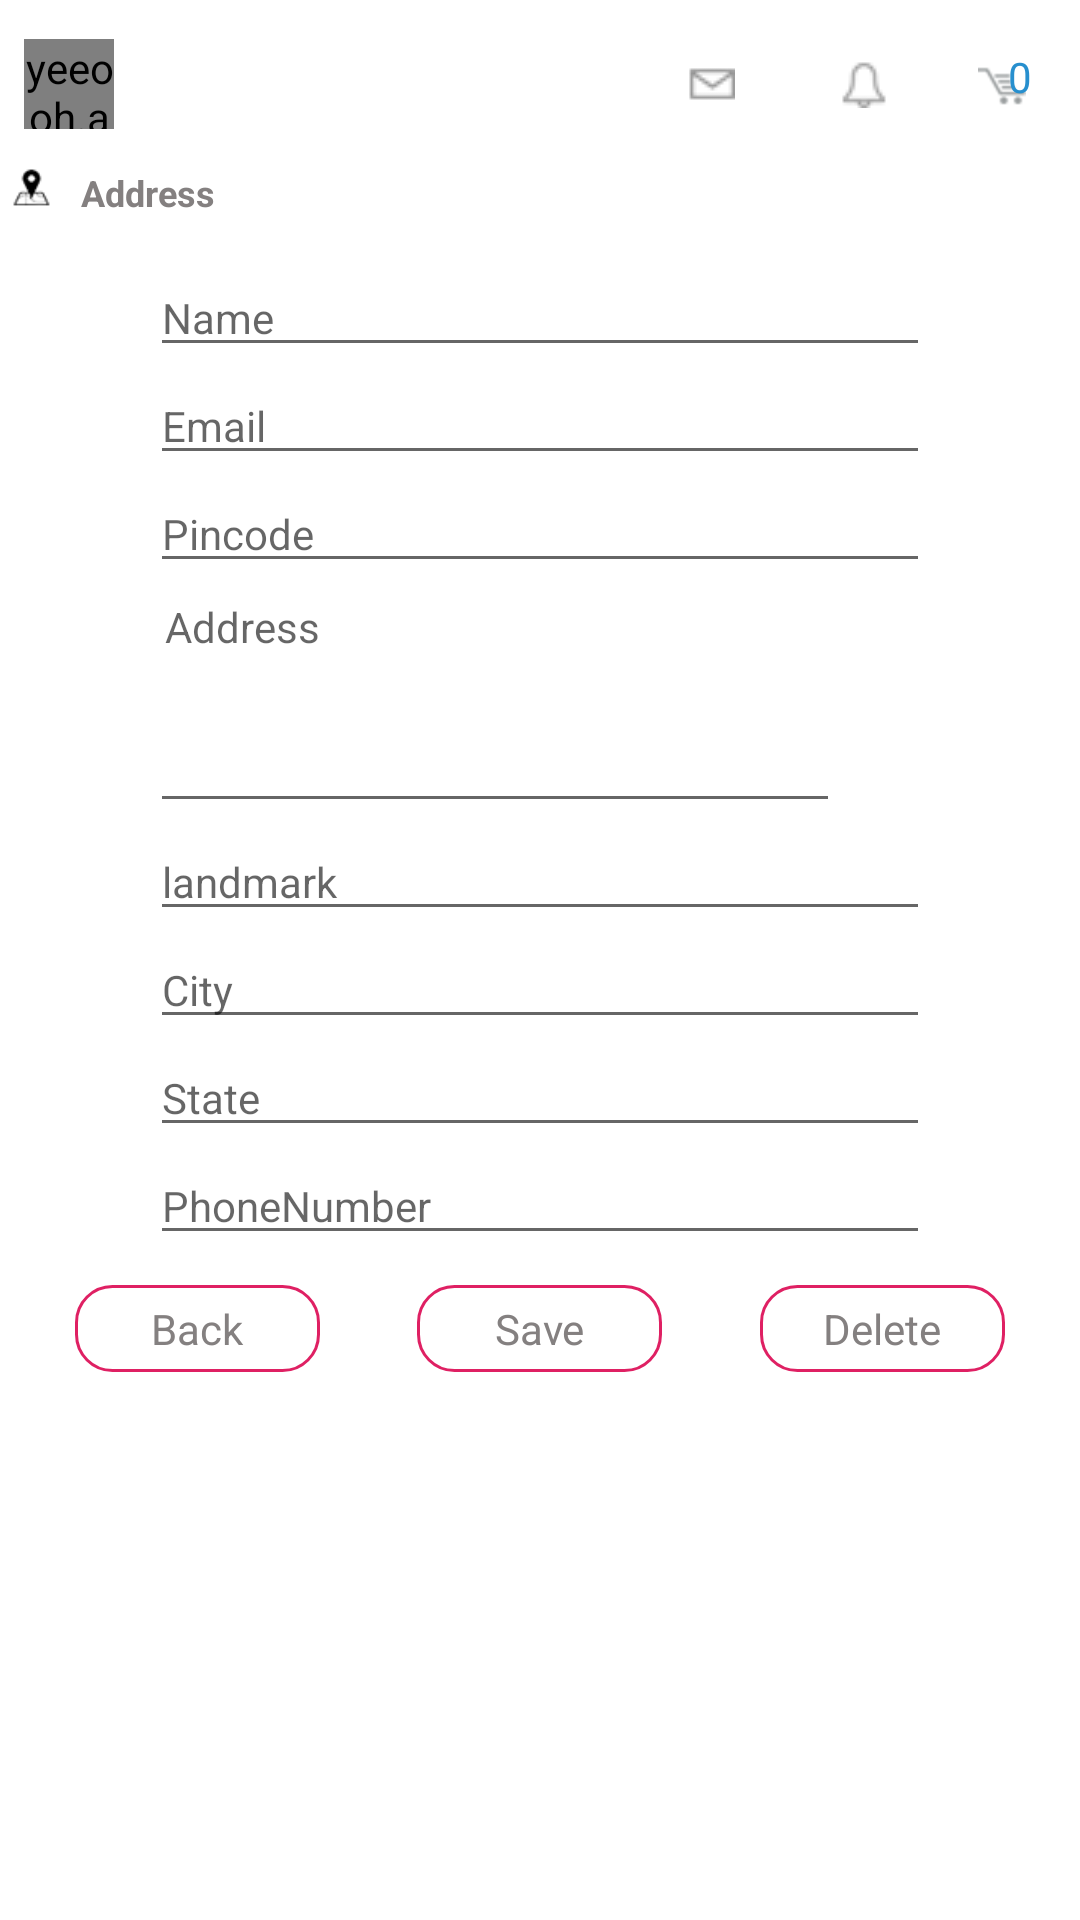

Named icons in this screenshot (1080w x 1920h) and their centers, (x=x, y=y):
cart: (x=1002, y=83)
inbox: (x=712, y=84)
navigation: (x=31, y=187)
notifications: (x=864, y=85)
